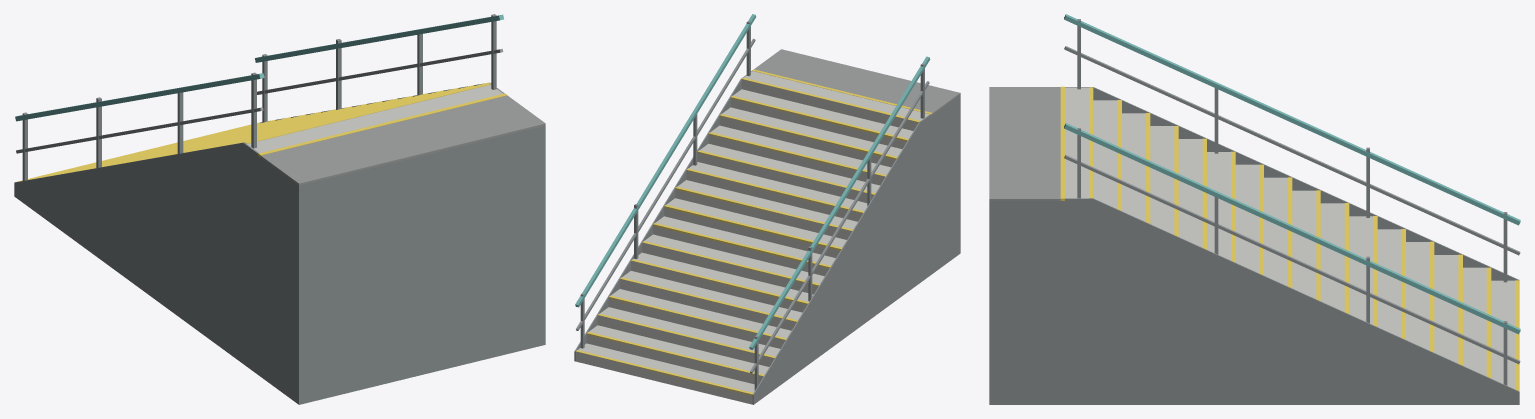
The model's file is kit_stair_flight.fbx.
The picture shows the model from 3 angles, left to right: view 1: azimuth 30°, elevation 25°; view 2: azimuth 150°, elevation 25°; view 3: azimuth 270°, elevation 25°; orthographic projection. The views are drawn at different scales.
Parts seen in each view (by area): view 1: kit_stair_flight; view 2: kit_stair_flight; view 3: kit_stair_flight.
Boxes of the visible parts, x1=… form: kit_stair_flight: x1=14, y1=14, x2=545, y2=404; kit_stair_flight: x1=574, y1=14, x2=960, y2=404; kit_stair_flight: x1=989, y1=14, x2=1520, y2=404.
Size of the model in its own units: 3.5 by 4.07 by 7.01.
